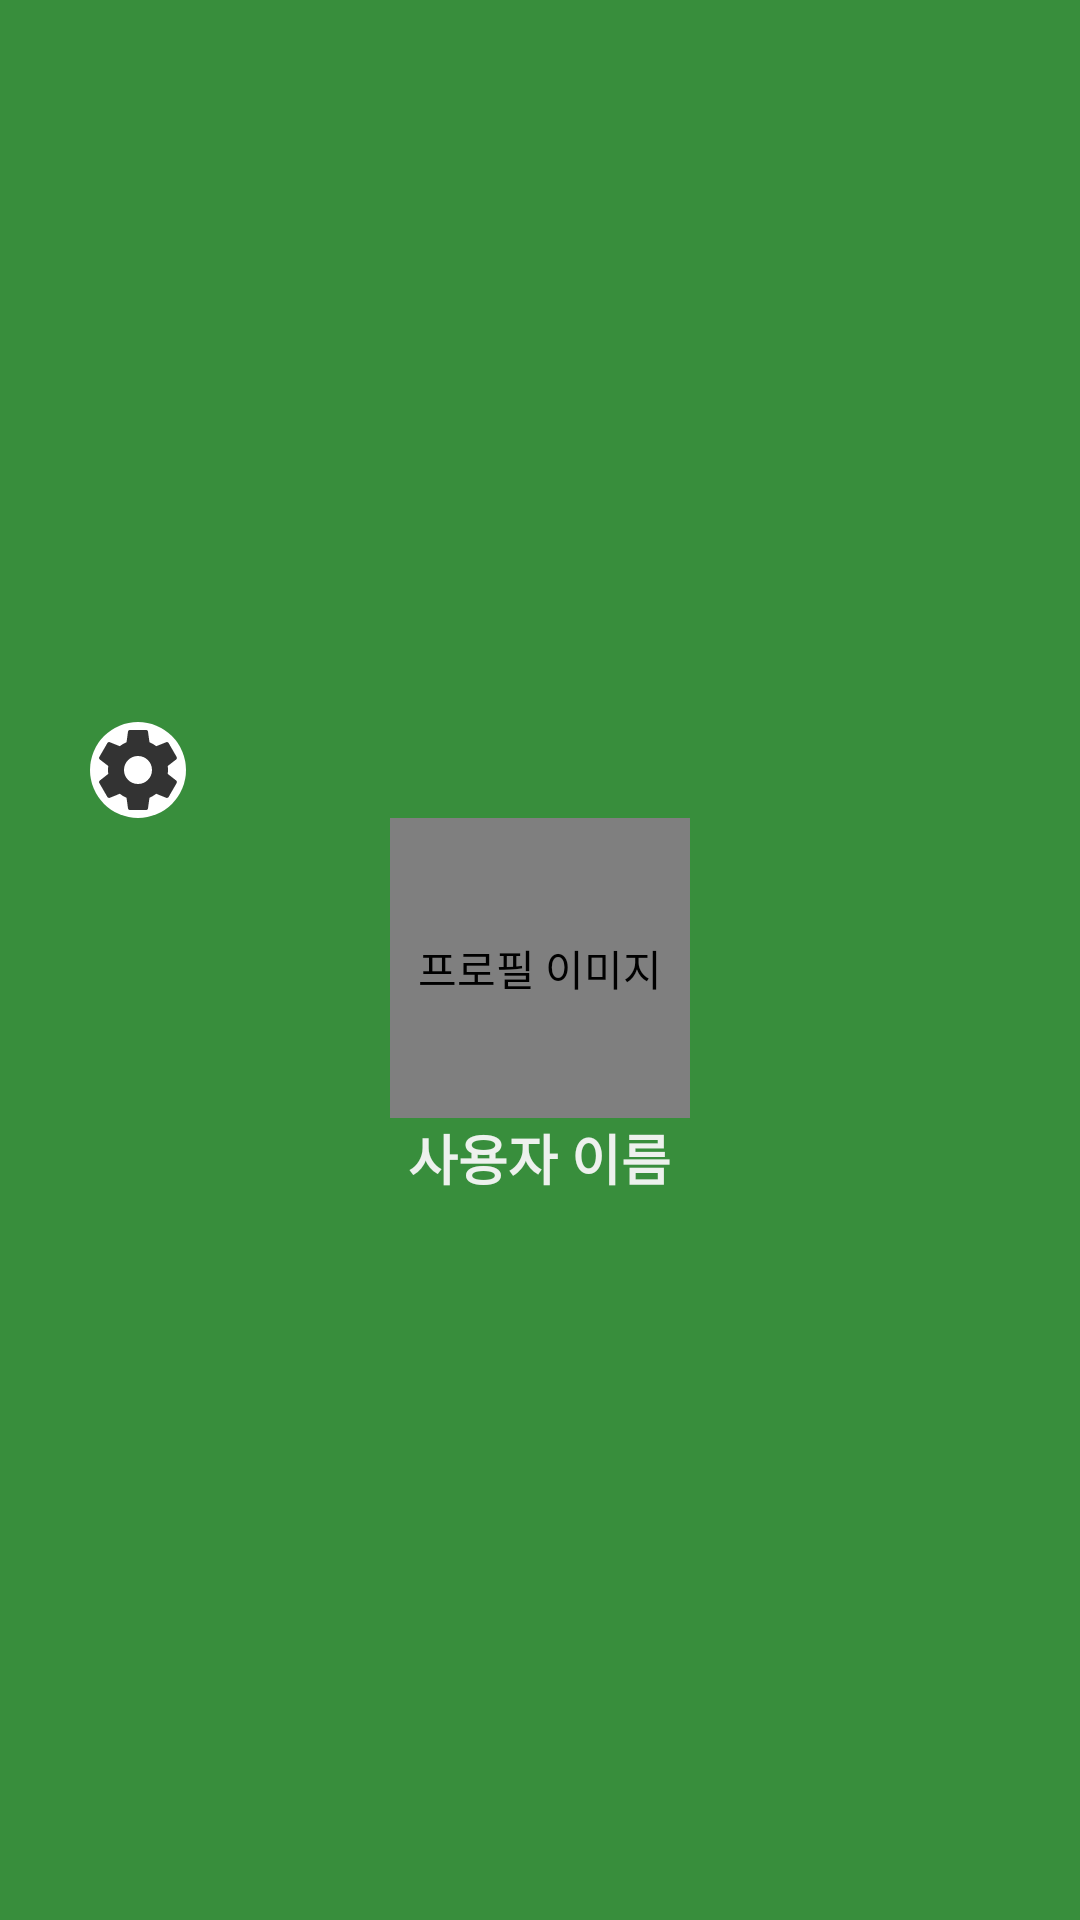

Icon bounding boxes for this 1080*1920 phone screenshot, format (x1, y1, x2, y2):
gear: (90, 722, 186, 818)
